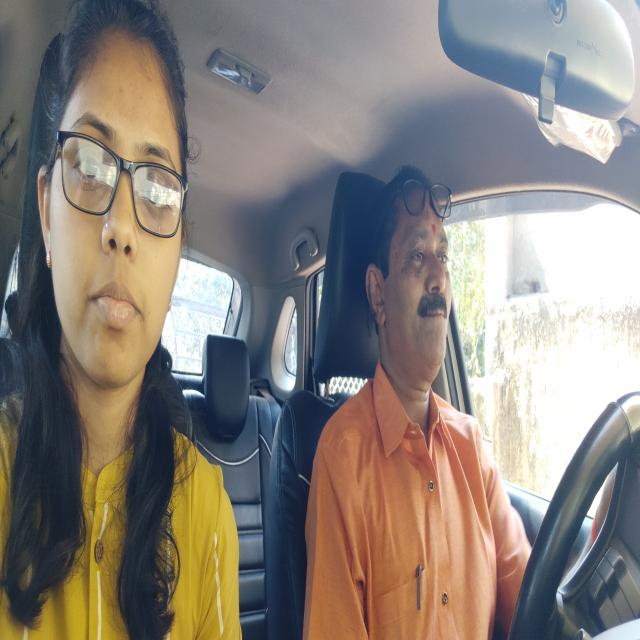person: (23, 2, 190, 373), (357, 152, 457, 394)
